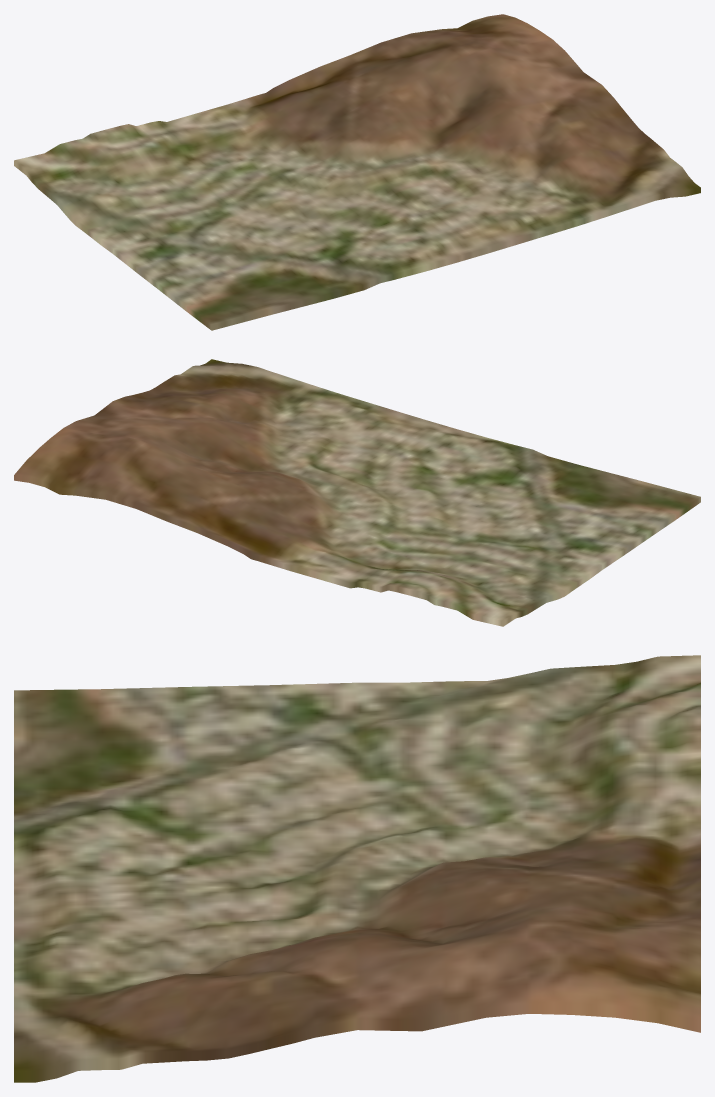
File: terrain_r5_c5_lod2.glb
The picture shows the model from 3 angles, top to bottom: view 1: azimuth 30°, elevation 25°; view 2: azimuth 150°, elevation 25°; view 3: azimuth 270°, elevation 25°; orthographic projection. The views are drawn at different scales.
Parts seen in each view (by area): view 1: terrain_r5_c5_lod2; view 2: terrain_r5_c5_lod2; view 3: terrain_r5_c5_lod2.
Boxes of the visible parts, x1=… form: terrain_r5_c5_lod2: x1=14, y1=14, x2=700, y2=330; terrain_r5_c5_lod2: x1=14, y1=359, x2=700, y2=626; terrain_r5_c5_lod2: x1=14, y1=655, x2=700, y2=1082.
Bounding box in the file's own units: 1125 × 154 × 787.
1 material, 1 textured.
